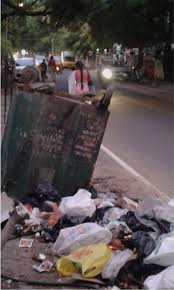garbage: (9, 189, 174, 284)
